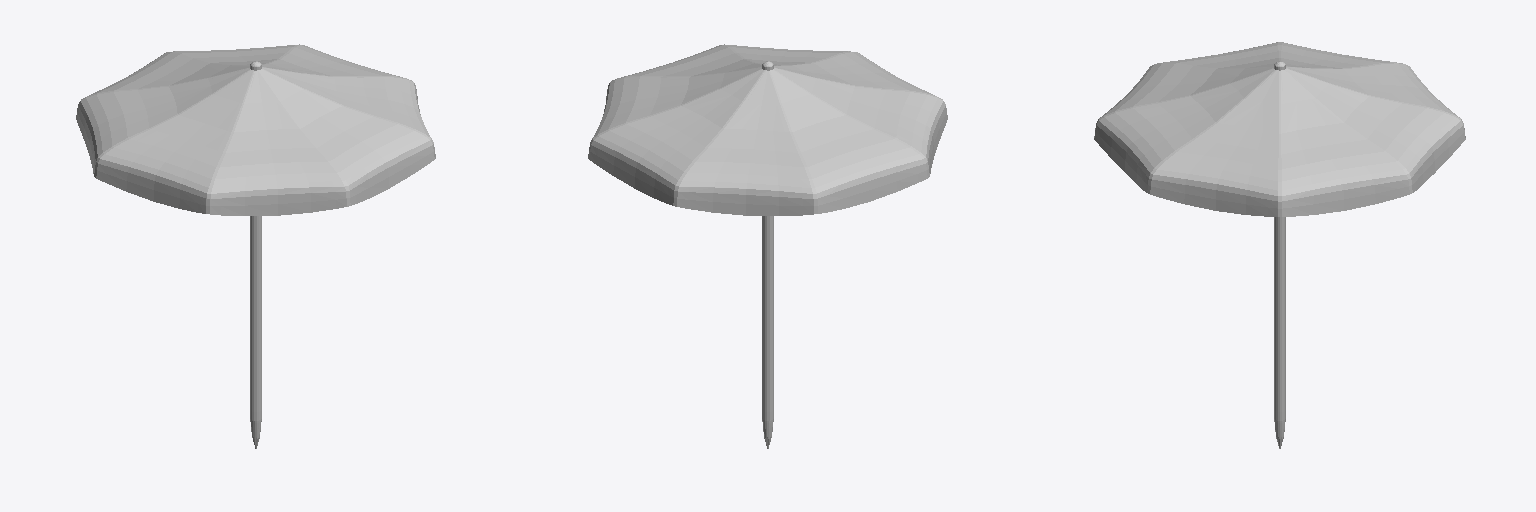
File: umbrella2.obj
3 renders of one model, left to right at view 1: azimuth 30°, elevation 25°; view 2: azimuth 150°, elevation 25°; view 3: azimuth 270°, elevation 25°, orthographic.
Visible parts, largest first — view 1: Cylinder.002, Cylinder; view 2: Cylinder.002, Cylinder; view 3: Cylinder.002, Cylinder.
Boxes of the visible parts, <box> form: Cylinder.002: <box>76,44,435,215</box>; Cylinder: <box>250,61,261,448</box>; Cylinder.002: <box>588,44,947,215</box>; Cylinder: <box>762,61,773,448</box>; Cylinder.002: <box>1094,42,1465,216</box>; Cylinder: <box>1274,61,1285,448</box>.
Size of the model in its own units: 1.44 by 1.67 by 1.44.